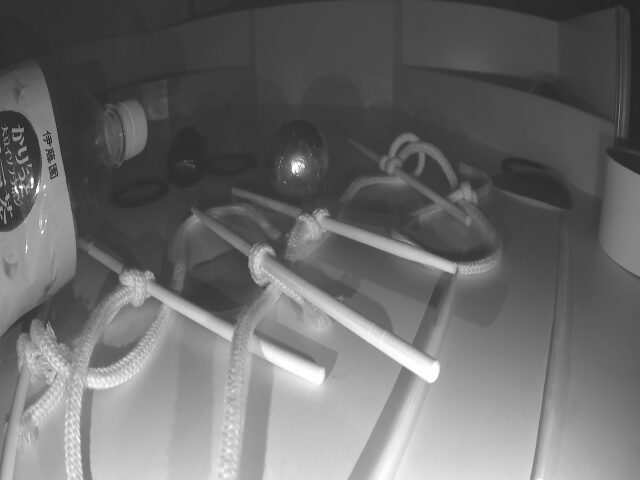Dead: (165, 128, 207, 183)
Live: (265, 118, 330, 198)
Point: (394, 64, 609, 199), (110, 66, 249, 120)
